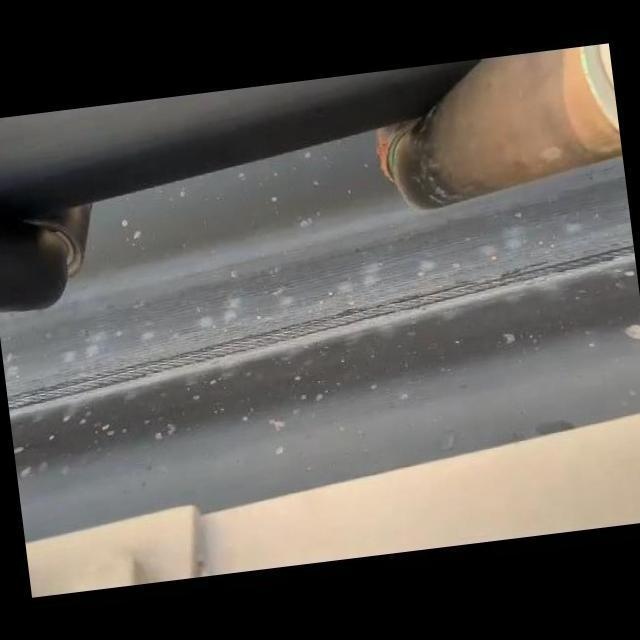Wear: (6, 221, 638, 447)
